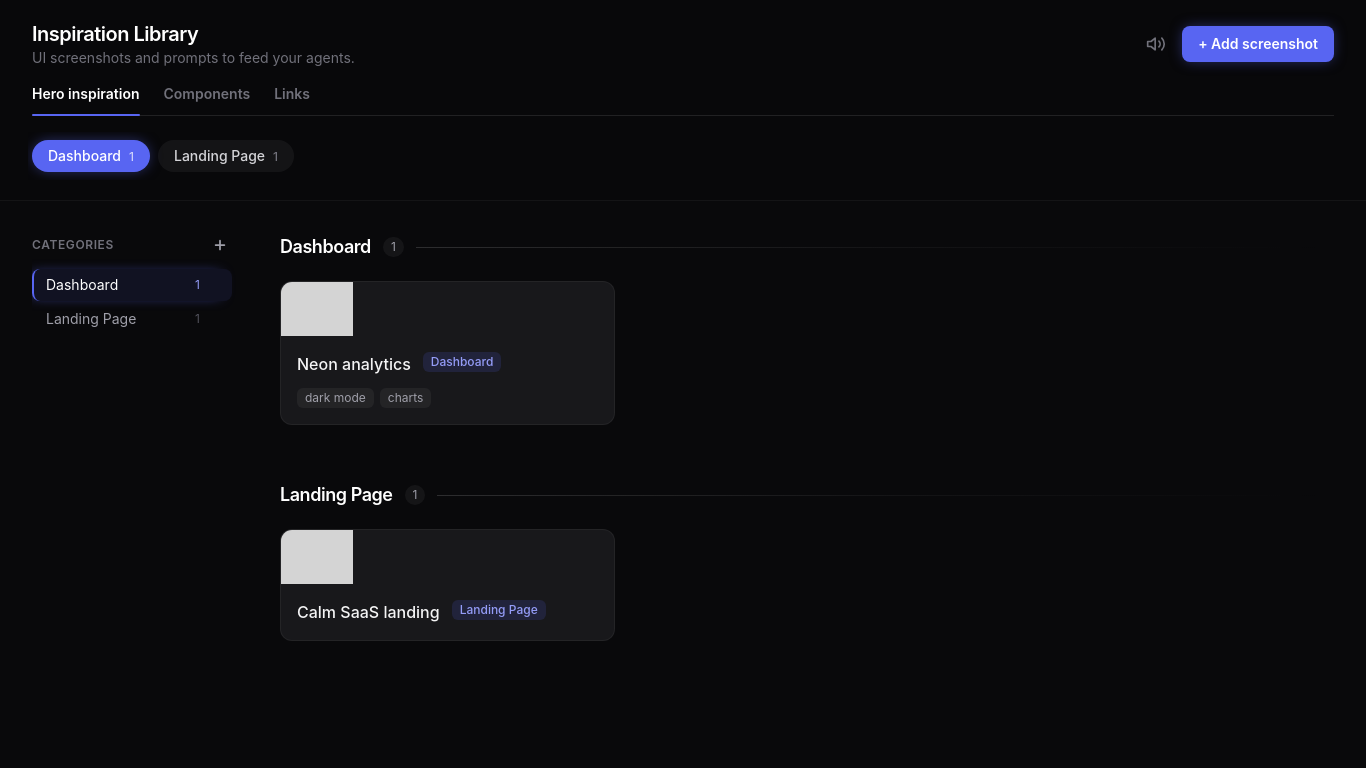
Scenario: App › shows why a new category was rejected
Expected: the button "Dashboard 1" is shown, [32, 269, 232, 301]
Click the button named "Add category": (220, 245) [208, 233, 232, 257]
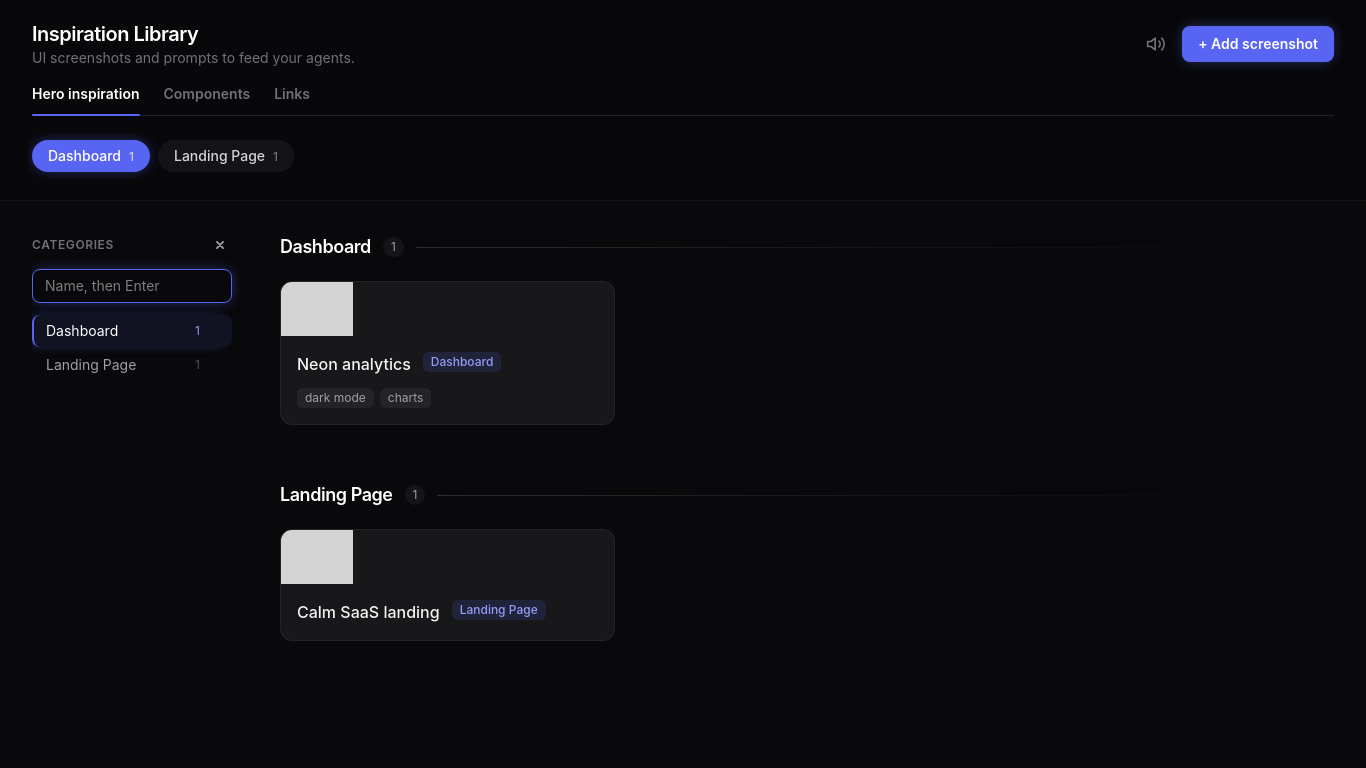
In the field named "New category name": (132, 286) [32, 269, 232, 303], type "Dashboard"
Then press Enter
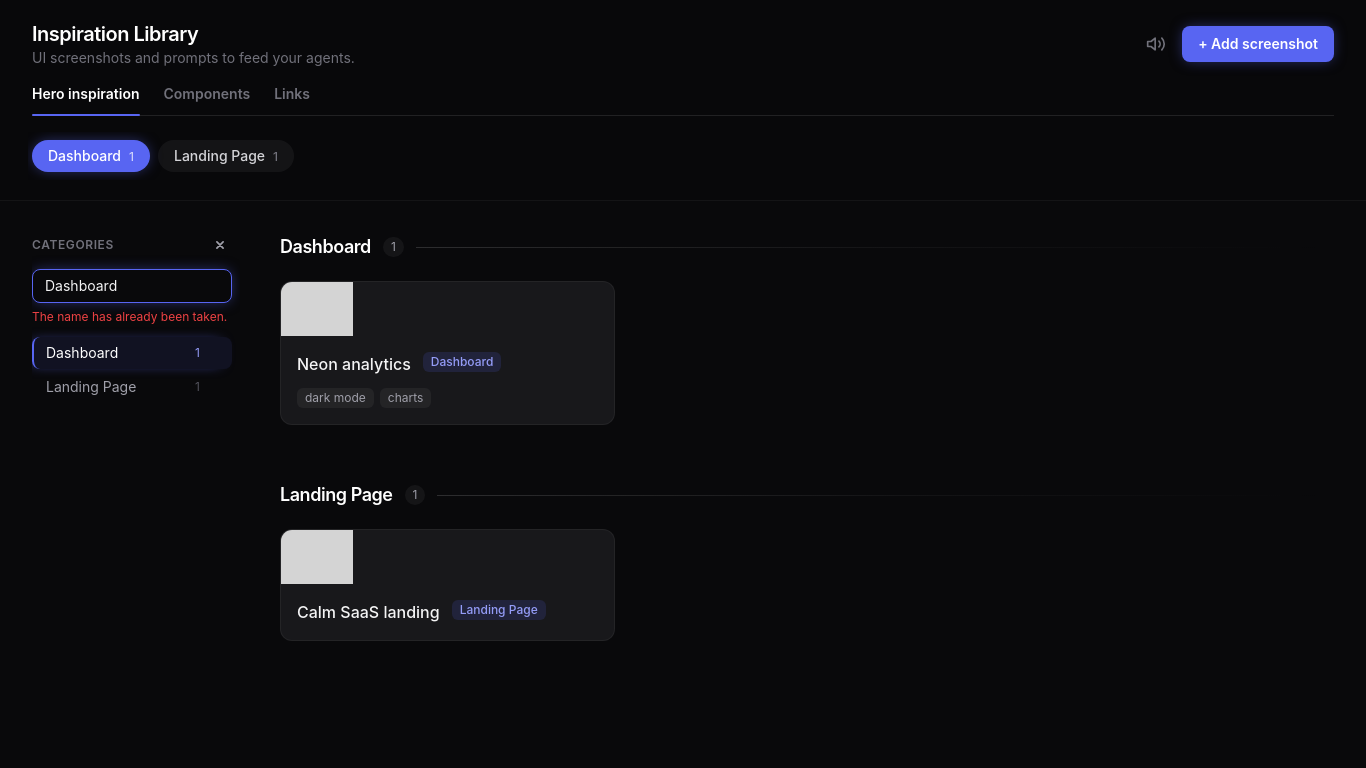
Result: the text "The name has already been taken." is shown at [32, 309, 232, 325]
